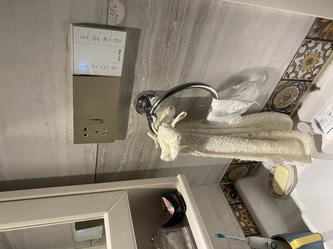switch: (88, 118, 105, 124)
